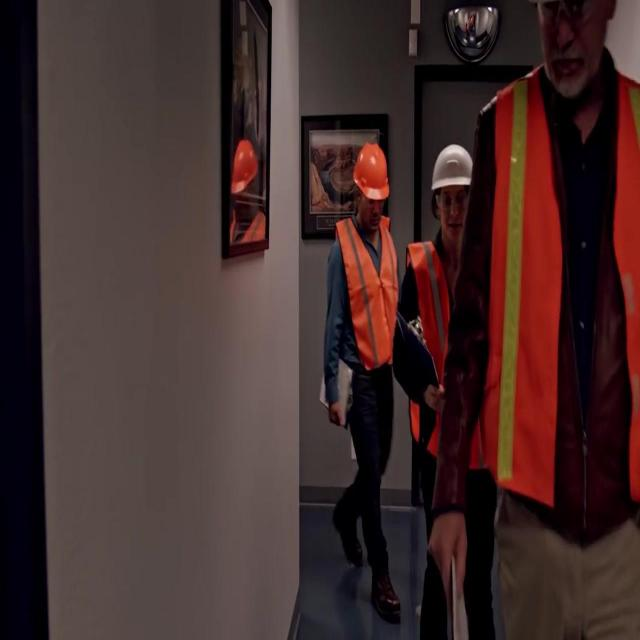Reflective-Jacket: (450, 68, 638, 546), (393, 233, 476, 479), (318, 213, 405, 407)
Safety-Helmet: (424, 132, 482, 210), (346, 134, 395, 211)
